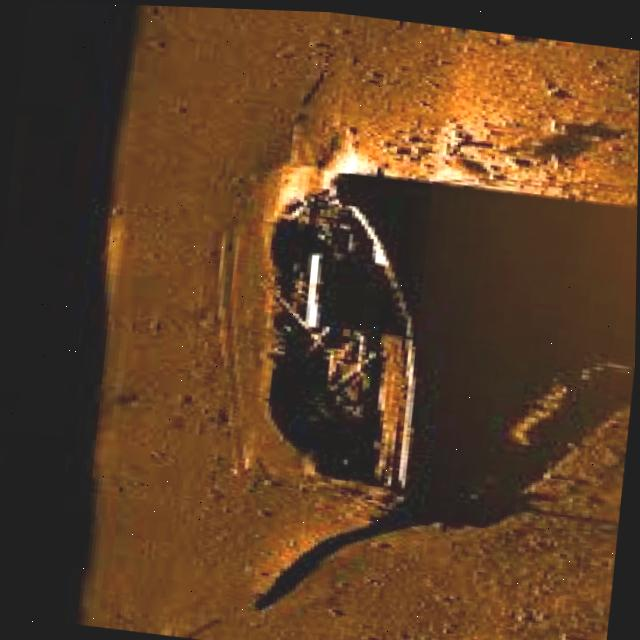shipwreck: (219, 146, 440, 527)
